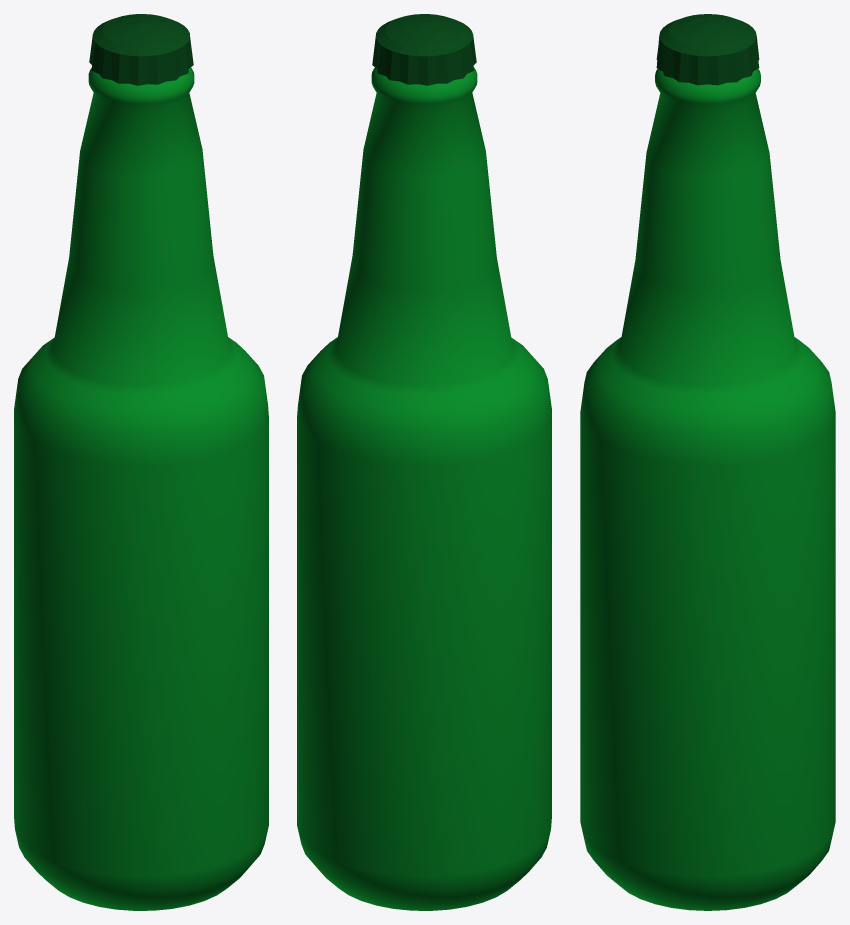
The model's file is LowPolyBeer.fbx.
The picture shows the model from 3 angles, left to right: view 1: azimuth 30°, elevation 25°; view 2: azimuth 150°, elevation 25°; view 3: azimuth 270°, elevation 25°; orthographic projection.
Visible parts, largest first — view 1: Cylindre; view 2: Cylindre; view 3: Cylindre.
Boxes of the visible parts, x1,y1,x2,y2 form: Cylindre: (14, 14, 268, 910); Cylindre: (297, 14, 551, 910); Cylindre: (580, 14, 835, 910).
Size of the model in its own units: 135 by 501 by 135.
Materials: 2 (2 with a texture image).
